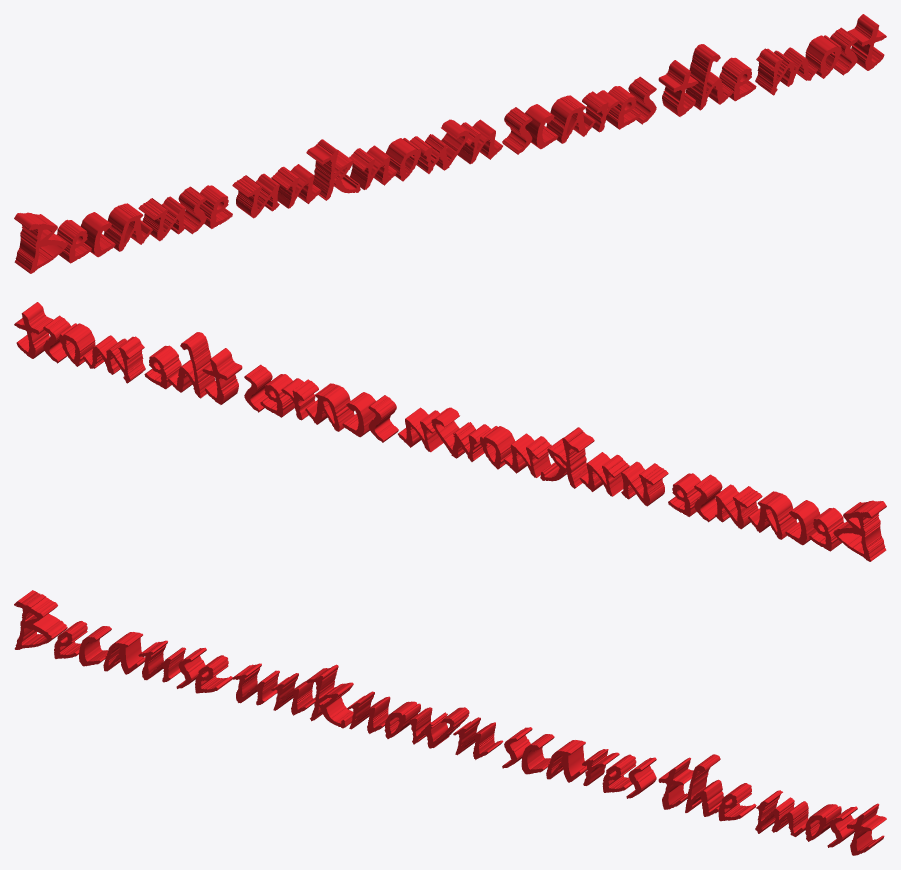
File: BadWayExplaination.fbx
The picture shows the model from 3 angles, top to bottom: view 1: azimuth 30°, elevation 25°; view 2: azimuth 150°, elevation 25°; view 3: azimuth 330°, elevation 25°; orthographic projection.
Parts seen in each view (by area): view 1: node_id33; view 2: node_id33; view 3: node_id33.
Part boxes in pixels (x1,y1,x2,y2): node_id33: [14, 14, 886, 273]; node_id33: [14, 302, 886, 561]; node_id33: [14, 590, 886, 855].
Bounding box in the file's own units: 0.6122 × 0.0372 × 0.0188.
